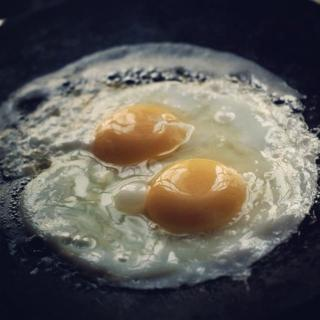Egg: (19, 76, 319, 289)
